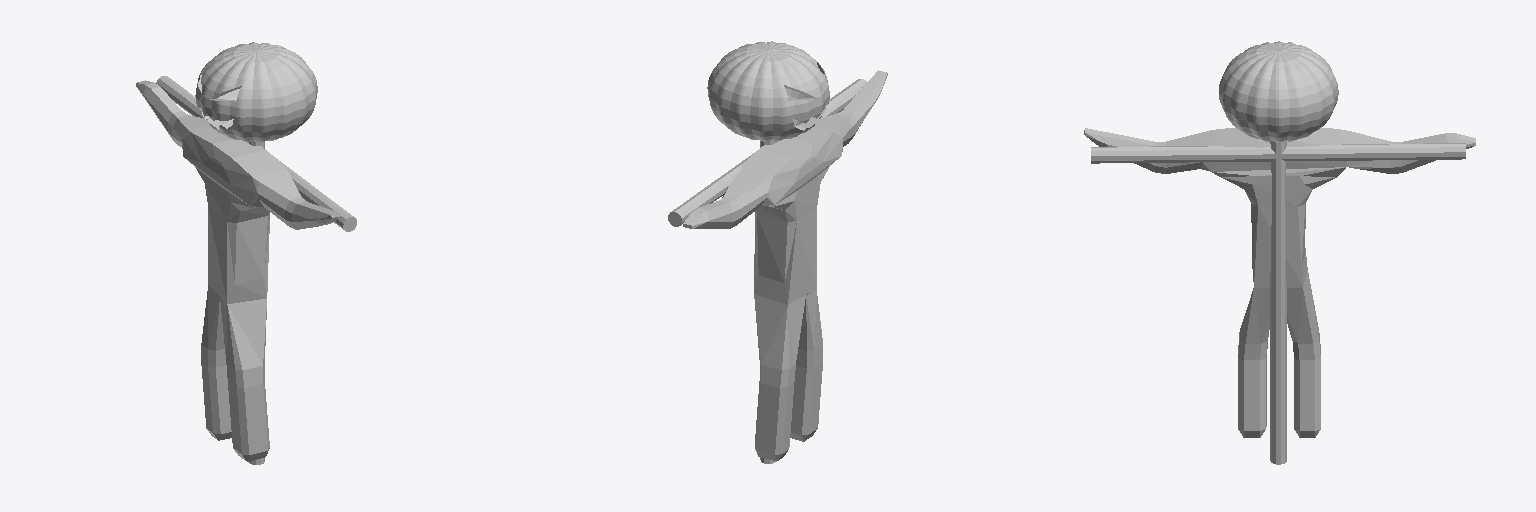
Rendered from scarecrow.obj.
3 renders of one model, left to right at view 1: azimuth 30°, elevation 25°; view 2: azimuth 150°, elevation 25°; view 3: azimuth 270°, elevation 25°, orthographic.
Parts seen in each view (by area): view 1: Sphere; view 2: Sphere; view 3: Sphere.
Part boxes in pixels (x1,y1,x2,y2): Sphere: (136, 42, 356, 464); Sphere: (668, 41, 887, 463); Sphere: (1084, 41, 1475, 464).
Bounding box in the file's own units: 2.68 × 9.74 × 8.41.